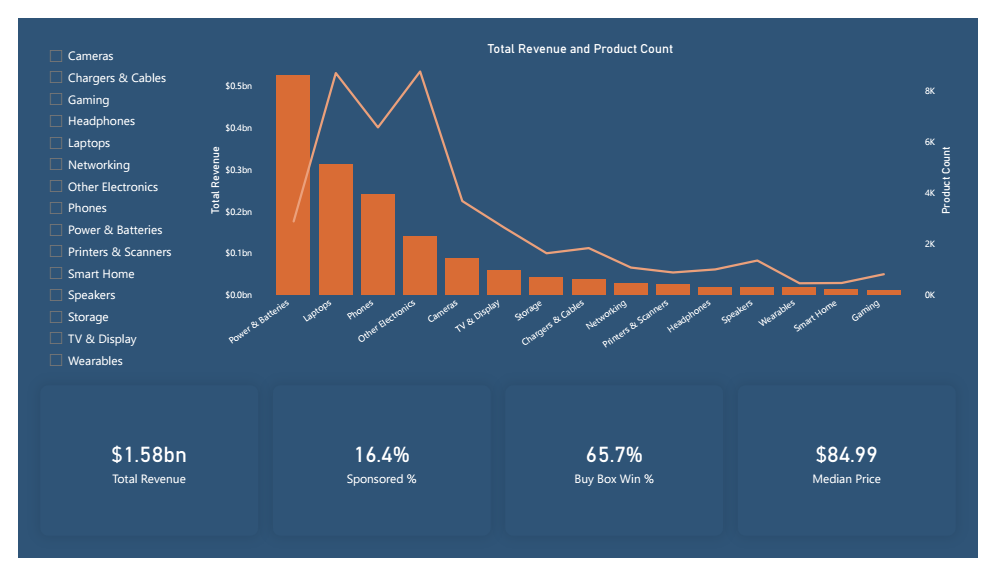

The dashboard page shown, as its layout file describes it:
{"tool":"powerbi","page":{"name":"The Executive Scorecard","canvas":[1280,720],"ordinal":0},"visuals":[{"type":"slicer","fields":{"Values":["public amazon_sales.product_category"]},"box":[30,30,220,445],"z":0},{"type":"lineStackedColumnComboChart","title":"Total Revenue and Product Count","fields":{"Category":["public amazon_sales.product_category"],"Y2":["CountNonNull(public amazon_sales.product_title)"],"Y":["public amazon_sales.Total Revenue"]},"box":[250,30,1000,435],"z":1000},{"type":"card","fields":{"Values":["public amazon_sales.Total Revenue"]},"box":[30,490,290,200],"z":2000},{"type":"card","fields":{"Values":["public amazon_sales.Sponsored %"]},"box":[340,490,290,200],"z":3000},{"type":"card","fields":{"Values":["public amazon_sales.Buy Box Win %"]},"box":[650,490,290,200],"z":4000},{"type":"card","fields":{"Values":["public amazon_sales.Median Price"]},"box":[960,490,290,200],"z":5000}]}

Visuals, with their boxes in screenshot pixels (x1, y1, x2, y2), scaled from the page's 1280x720 canvas onto the 996x576 screenshot:
slicer - public amazon_sales.product_category: x1=23 y1=24 x2=195 y2=380
"Total Revenue and Product Count" lineStackedColumnComboChart: x1=195 y1=24 x2=973 y2=372
card - public amazon_sales.Total Revenue: x1=23 y1=392 x2=249 y2=552
card - public amazon_sales.Sponsored %: x1=265 y1=392 x2=490 y2=552
card - public amazon_sales.Buy Box Win %: x1=506 y1=392 x2=731 y2=552
card - public amazon_sales.Median Price: x1=747 y1=392 x2=973 y2=552
